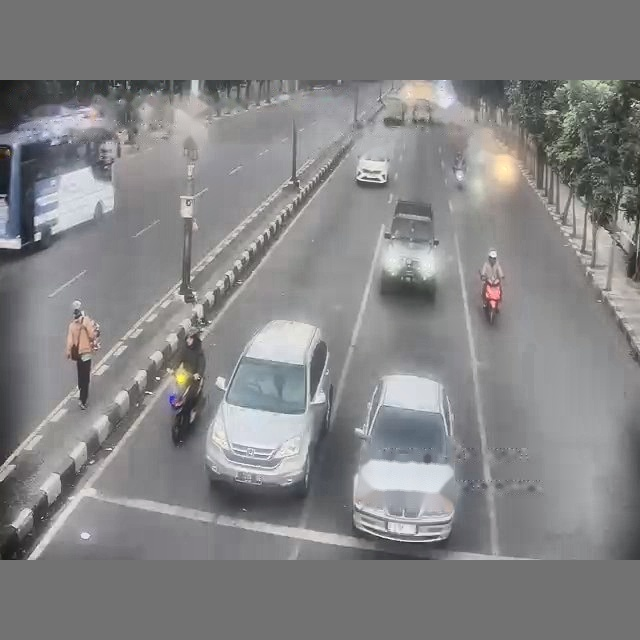Bis: (0, 109, 119, 249)
Mobil: (206, 320, 332, 497), (352, 374, 459, 541), (356, 152, 389, 184)
Motor: (169, 366, 202, 444), (483, 278, 501, 324), (454, 168, 464, 187)
Truk: (380, 200, 438, 298)
